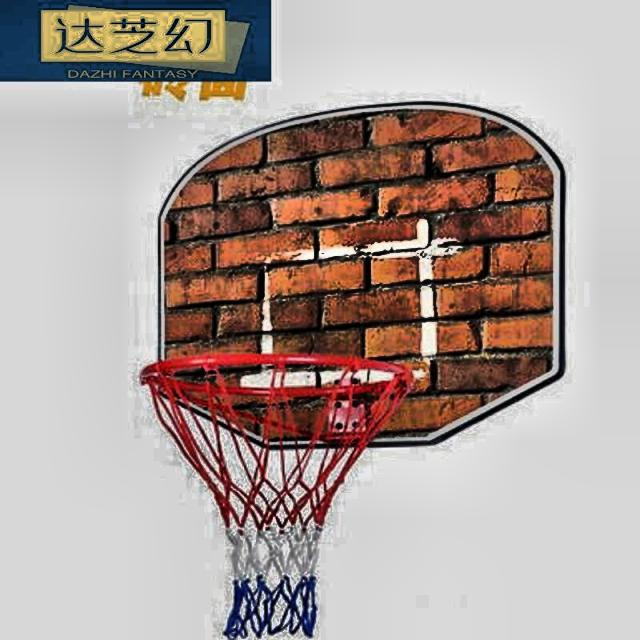rim: (138, 355, 408, 640)
